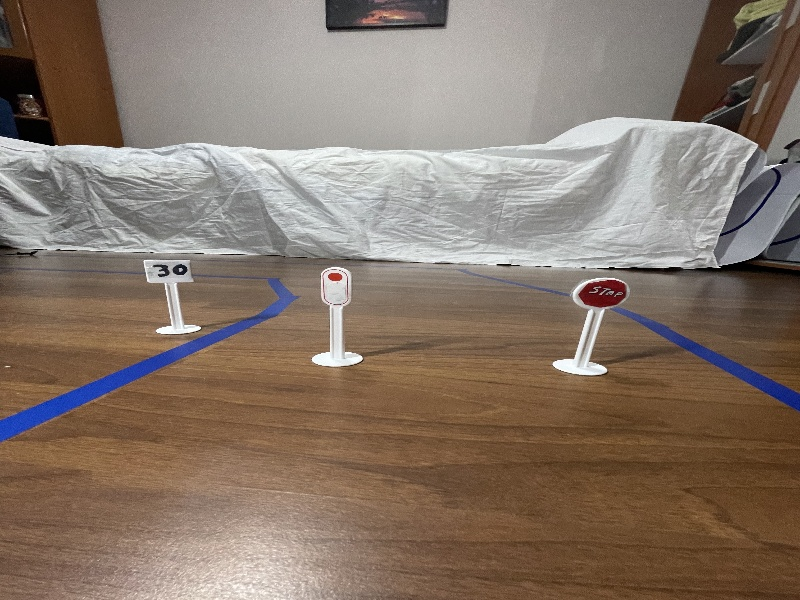semafor_rosu: (317, 263, 363, 313)
stop: (573, 263, 635, 317)
viteza_limita_30: (139, 250, 200, 292)
